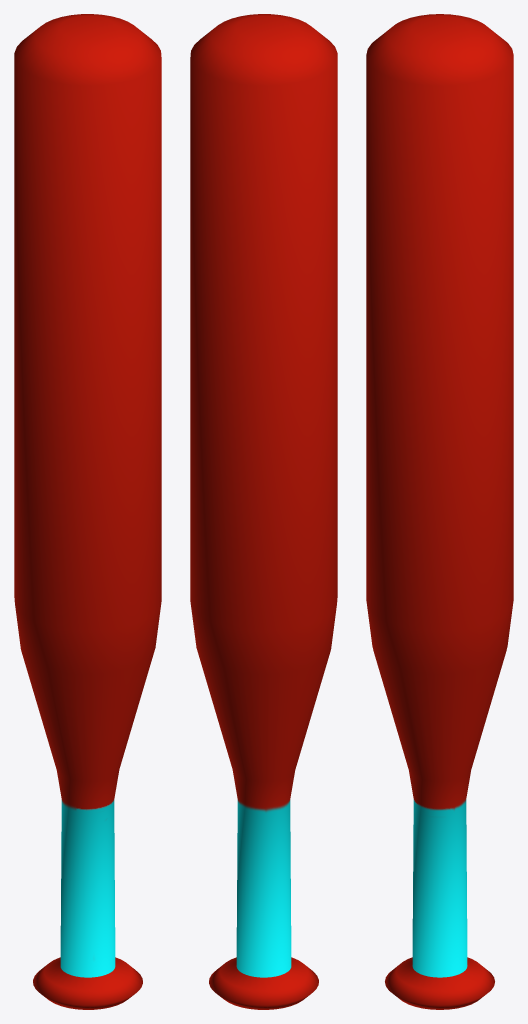
File: BatNew.fbx
The picture shows the model from 3 angles, left to right: view 1: azimuth 30°, elevation 25°; view 2: azimuth 150°, elevation 25°; view 3: azimuth 270°, elevation 25°; orthographic projection.
Parts seen in each view (by area): view 1: Cylinder; view 2: Cylinder; view 3: Cylinder.
Boxes of the visible parts, left/top/right/bottom form: Cylinder: left=14, top=14, right=161, bottom=1009; Cylinder: left=190, top=14, right=337, bottom=1009; Cylinder: left=366, top=14, right=513, bottom=1009.
Bounding box in the file's own units: 20 × 145 × 20.
Materials: 1 (1 with a texture image).
